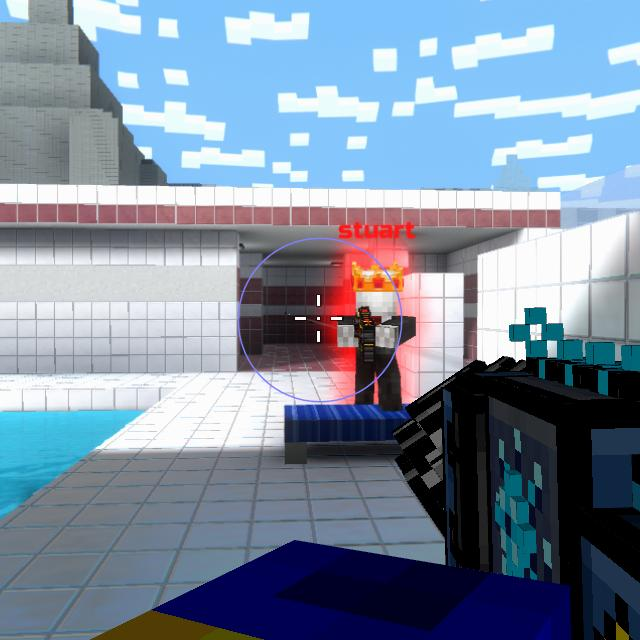Enemy: (334, 273, 415, 411)
